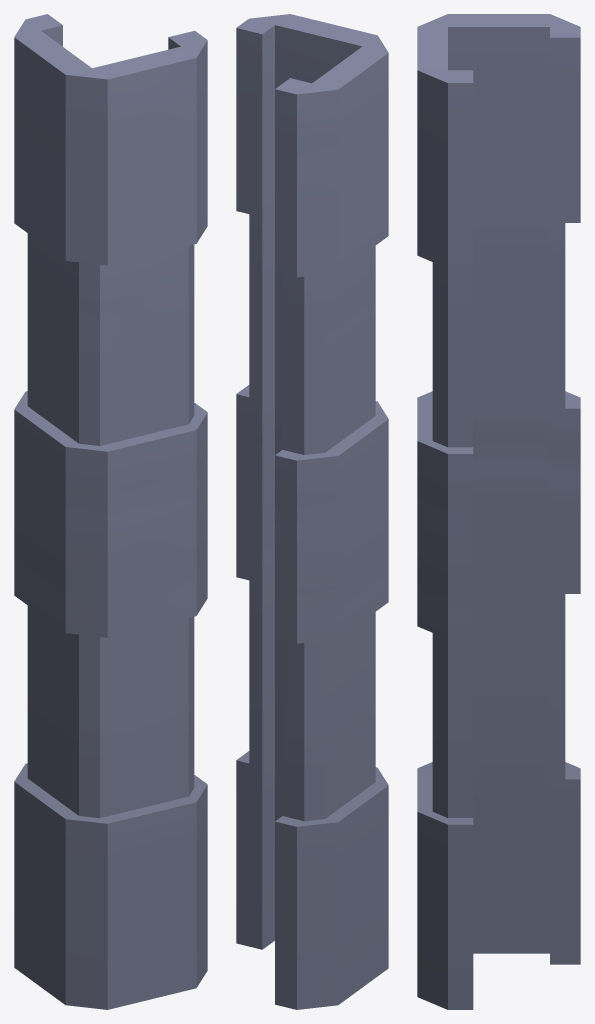
The model's file is wallCornerDetail.fbx.
3 views of the same model, side by side, from view 1: azimuth 30°, elevation 25°; view 2: azimuth 150°, elevation 25°; view 3: azimuth 270°, elevation 25° (orthographic).
Visible parts, largest first — view 1: wallCornerDetail; view 2: wallCornerDetail; view 3: wallCornerDetail.
Boxes of the visible parts, x1=… form: wallCornerDetail: x1=14, y1=14, x2=207, y2=1009; wallCornerDetail: x1=236, y1=14, x2=388, y2=1009; wallCornerDetail: x1=417, y1=14, x2=580, y2=1009.
Bounding box in the file's own units: 0.16 × 0.16 × 1.
